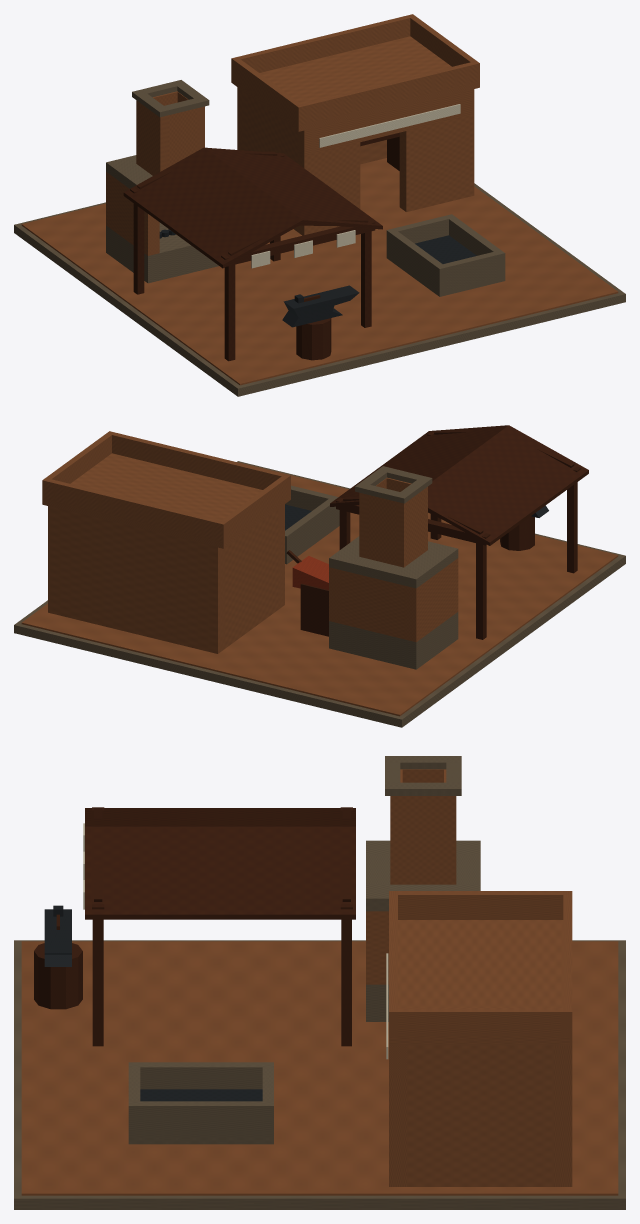
File: Berber_Blacksmith_Age2.fbx
3 renders of one model, top to bottom at view 1: azimuth 30°, elevation 25°; view 2: azimuth 150°, elevation 25°; view 3: azimuth 270°, elevation 25°, orthographic. The views are drawn at different scales.
Visible parts, largest first — view 1: court_floor, pitched_roof, foundation, store_roof, store_front_jamb.001, pitched_roof.001, store_parapet, store_parapet.001, store_open_lintel, hearth_base, store_front_jamb, store_side (+20 smaller); view 2: court_floor, store_back, pitched_roof, store_roof, foundation, store_side, store_parapet.001, store_parapet, hearth_base, forge_back, pitched_roof.001, forge_side (+20 smaller); view 3: court_floor, pitched_roof.001, store_side.001, store_roof, foundation, chimney_side.001, trough_side.001, pitched_roof, store_end_parapet, store_end_parapet.001, trough_side, store_back (+17 smaller).
Boxes of the visible parts, box(x1,y1,x2,y2) form: court_floor: box(21, 158, 618, 385); pitched_roof: box(123, 147, 302, 268); foundation: box(14, 183, 625, 396); store_roof: box(231, 36, 479, 131); store_front_jamb.001: box(399, 114, 474, 211); pitched_roof.001: box(204, 147, 382, 229); store_parapet: box(295, 61, 479, 125); store_parapet.001: box(231, 14, 415, 78); store_open_lintel: box(297, 89, 474, 155); hearth_base: box(106, 222, 218, 283); store_front_jamb: box(297, 142, 360, 235); store_side: box(244, 92, 297, 231); court_floor: box(21, 463, 618, 716); store_back: box(48, 506, 224, 653); pitched_roof: box(428, 425, 588, 545); store_roof: box(42, 453, 290, 548); foundation: box(14, 461, 625, 727); store_side: box(224, 509, 278, 648); store_parapet.001: box(42, 478, 226, 542); store_parapet: box(106, 431, 290, 495); hearth_base: box(329, 612, 458, 669); forge_back: box(340, 570, 404, 639); pitched_roof.001: box(330, 425, 508, 506); forge_side: box(404, 558, 458, 642); court_floor: box(21, 941, 618, 1195); pitched_roof.001: box(85, 826, 355, 919); store_side.001: box(407, 1045, 553, 1186); store_roof: box(389, 920, 572, 1045); foundation: box(14, 940, 625, 1209); chimney_side.001: box(390, 796, 456, 884); trough_side.001: box(128, 1101, 273, 1136); pitched_roof: box(85, 808, 355, 826); store_end_parapet: box(398, 891, 563, 919); store_end_parapet.001: box(398, 1008, 563, 1036); trough_side: box(128, 1062, 273, 1089); store_back: box(554, 1045, 572, 1186).
Bounding box in the file's own units: 800 × 337 × 800.
Materials: 6 (6 with a texture image).
